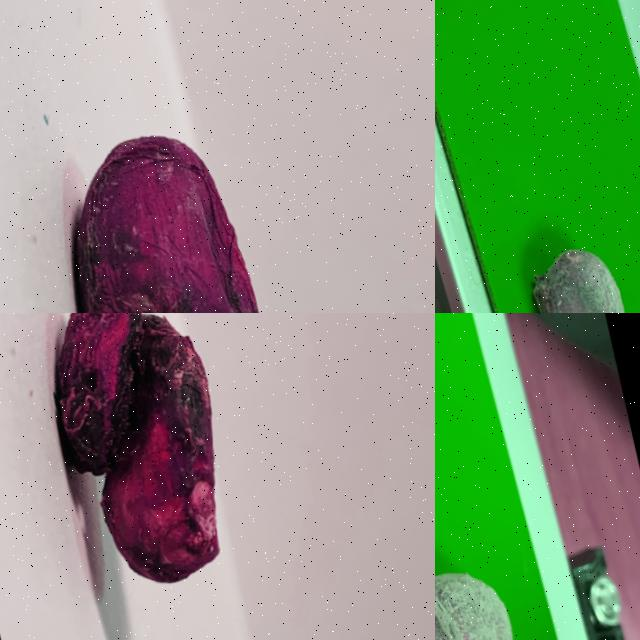Agglomerated_cocoabeans: (0, 313, 308, 639), (435, 415, 591, 639)
Fine_cocoabeans: (0, 4, 356, 312), (474, 177, 639, 312)
